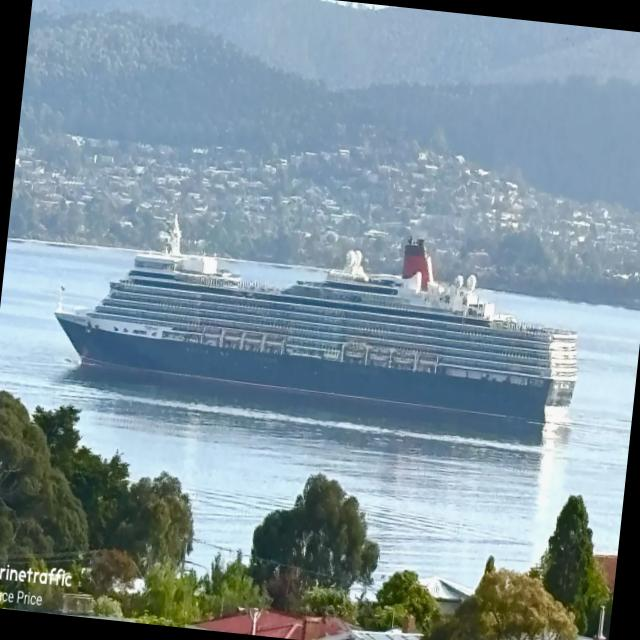Cruise: (55, 216, 576, 422)
